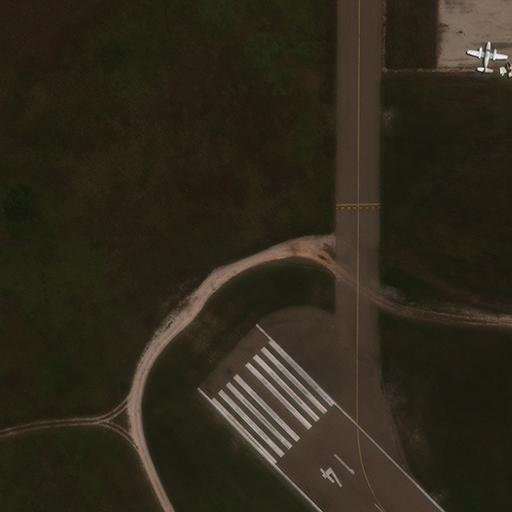Small Civil Transport: (468, 41, 507, 73)
